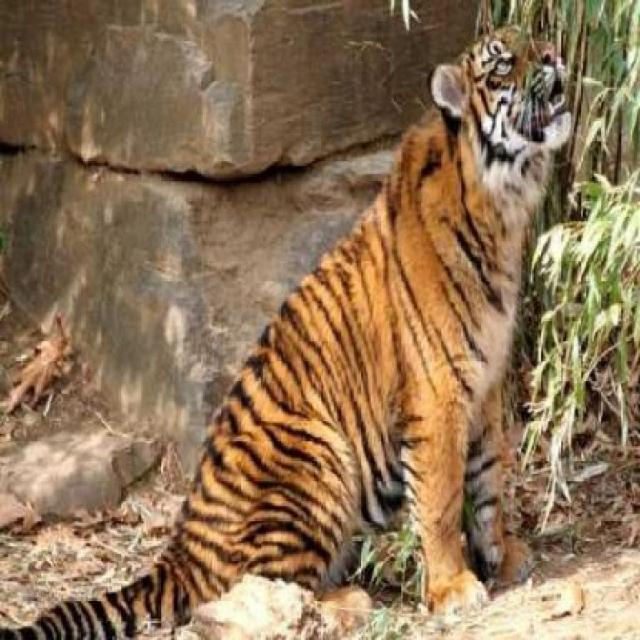Tiger: (114, 19, 589, 638)
